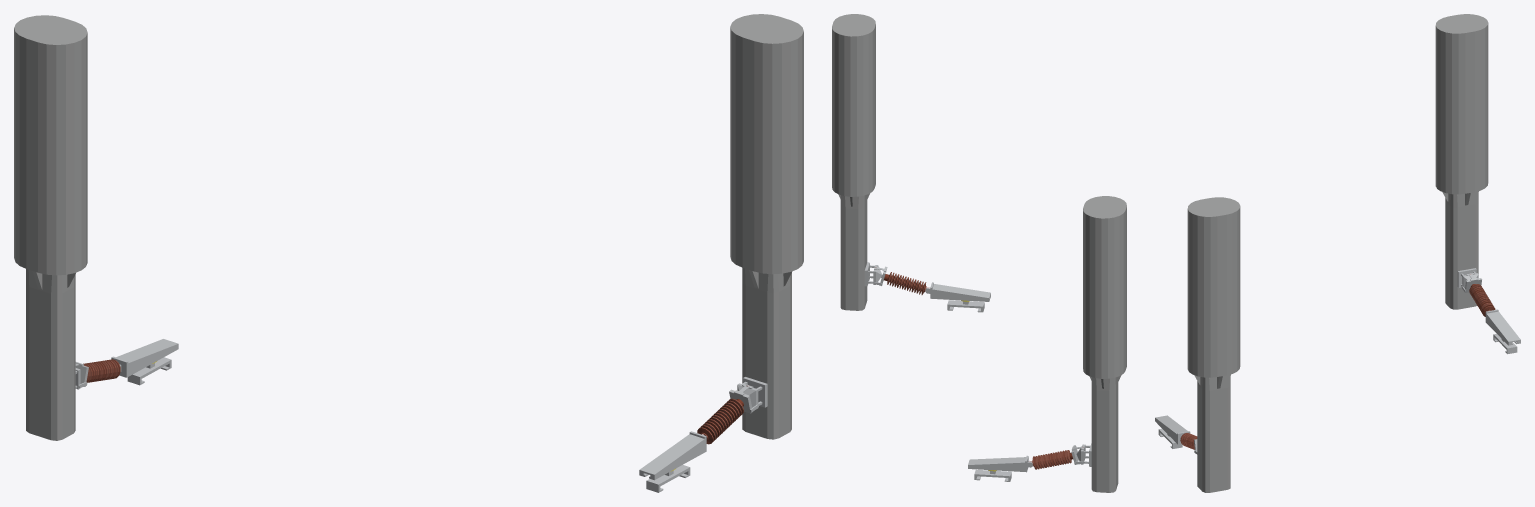
File: catenary_rigid_end_hs_p.obj
The picture shows the model from 3 angles, left to right: view 1: azimuth 30°, elevation 25°; view 2: azimuth 150°, elevation 25°; view 3: azimuth 270°, elevation 25°; orthographic projection. The views are drawn at different scales.
Parts seen in each view (by area): view 1: 1.001, 1.002; view 2: 1.002, 1.001; view 3: 1.002, 1.001.
Part boxes in pixels (x1=…): 1.001: x1=639, y1=14, x2=803, y2=492; 1.002: x1=14, y1=15, x2=178, y2=440; 1.002: x1=968, y1=196, x2=1126, y2=492; 1.001: x1=832, y1=14, x2=990, y2=312; 1.002: x1=1435, y1=14, x2=1520, y2=354; 1.001: x1=1155, y1=197, x2=1240, y2=492.
Bounding box in the file's own units: 2.81 × 1.8 × 2.14.
Materials: 2 (2 with a texture image).
